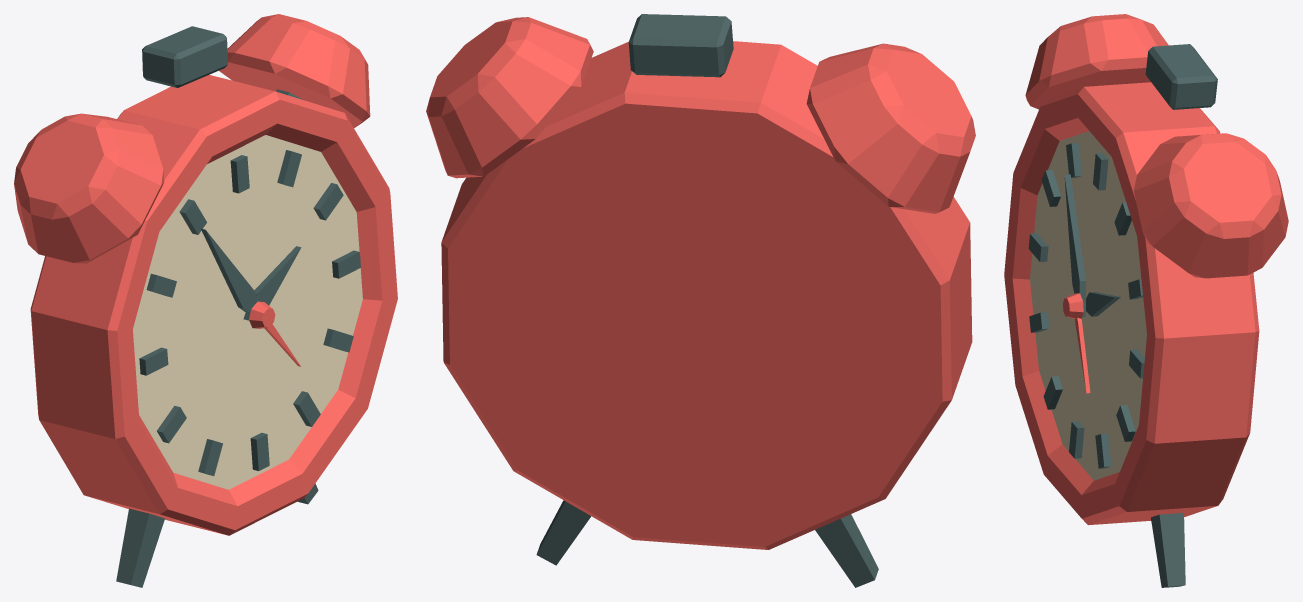
Rendered from allora.glb.
3 views of the same model, side by side, from view 1: azimuth 30°, elevation 25°; view 2: azimuth 150°, elevation 25°; view 3: azimuth 270°, elevation 25° (orthographic). The views are drawn at different scales.
Visible parts, largest first — view 1: Clock_Body, Bell_L, Bell_R, Hammer, Leg_L, Hand_Minute, Hand_Hour, Tick_00, Tick_06, Tick_02, Tick_08, Tick_01 (+8 smaller); view 2: Clock_Body, Bell_L, Bell_R, Hammer, Leg_L, Leg_R; view 3: Clock_Body, Bell_R, Bell_L, Hammer, Leg_R, Hand_Minute, Hand_Hour, Tick_06, Tick_00, Tick_10, Tick_04, Hand_Second (+6 smaller).
Part boxes in pixels (left/top/right/bottom): Clock_Body: left=30, top=75, right=397, bottom=535; Bell_L: left=14, top=113, right=164, bottom=263; Bell_R: left=219, top=14, right=370, bottom=127; Hammer: left=142, top=26, right=227, bottom=87; Leg_L: left=116, top=508, right=164, bottom=587; Hand_Minute: left=201, top=228, right=257, bottom=315; Hand_Hour: left=243, top=246, right=301, bottom=320; Tick_00: left=230, top=155, right=249, bottom=193; Tick_06: left=250, top=432, right=269, bottom=470; Tick_02: left=313, top=183, right=343, bottom=220; Tick_08: left=157, top=405, right=186, bottom=443; Tick_01: left=277, top=150, right=301, bottom=187; Clock_Body: left=441, top=41, right=972, bottom=549; Bell_L: left=806, top=43, right=975, bottom=213; Bell_R: left=426, top=17, right=593, bottom=178; Hammer: left=628, top=14, right=733, bottom=77; Leg_L: left=815, top=514, right=878, bottom=587; Leg_R: left=536, top=500, right=591, bottom=565; Clock_Body: left=1004, top=82, right=1259, bottom=525; Bell_R: left=1133, top=133, right=1288, bottom=278; Bell_L: left=1025, top=14, right=1168, bottom=109; Hammer: left=1145, top=44, right=1217, bottom=109; Leg_R: left=1151, top=513, right=1185, bottom=587; Hand_Minute: left=1064, top=174, right=1085, bottom=317; Hand_Hour: left=1086, top=292, right=1120, bottom=316; Tick_06: left=1069, top=421, right=1084, bottom=458; Tick_00: left=1093, top=153, right=1108, bottom=190; Tick_10: left=1041, top=170, right=1060, bottom=206; Tick_04: left=1116, top=405, right=1135, bottom=441; Hand_Second: left=1075, top=318, right=1090, bottom=393.
Size of the model in its own units: 2.03 by 2.37 by 1.28.
